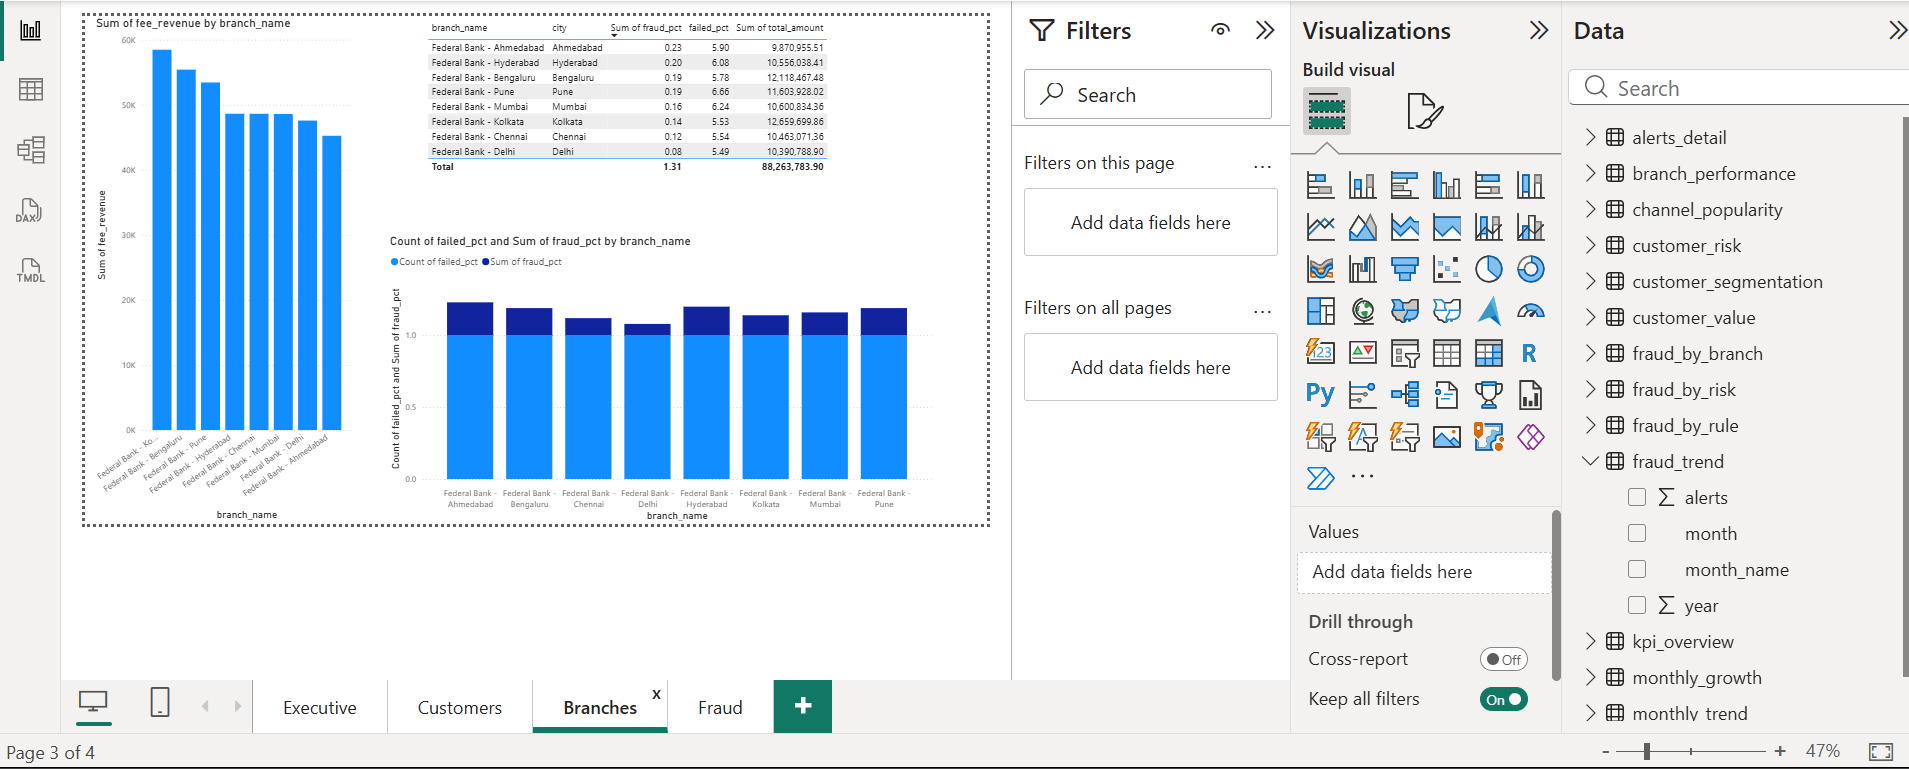

What the dashboard file says about the page in this screenshot:
{"tool":"powerbi","page":{"name":"Branches","canvas":[1280,720],"ordinal":2},"visuals":[{"type":"columnChart","fields":{"Category":["branch_performance.branch_name"],"Y":["Sum(branch_performance.fee_revenue)"]},"box":[10,0,372,720],"z":0},{"type":"columnChart","fields":{"Category":["branch_performance.branch_name"],"Y":["CountNonNull(branch_performance.failed_pct)","Sum(branch_performance.fraud_pct)"]},"box":[428,308,778,412],"z":1000},{"type":"tableEx","fields":{"Values":["branch_performance.branch_name","branch_performance.city","Sum(branch_performance.fraud_pct)","branch_performance.failed_pct","Sum(branch_performance.total_amount)"]},"box":[480,0,800,270],"z":2000}]}

Visuals, with their boxes on the page's 1280x720 design canvas (x1, y1, x2, y2). These are canvas units, not pixel positions in the 1909x769 screenshot, which may show the page scaled, cropped or inside an application window:
columnChart - branch_performance.branch_name x Sum(branch_performance.fee_revenue): (10, 0, 382, 720)
columnChart - branch_performance.branch_name x CountNonNull(branch_performance.failed_pct): (428, 308, 1206, 720)
tableEx - branch_performance.branch_name x branch_performance.city: (480, 0, 1280, 270)
